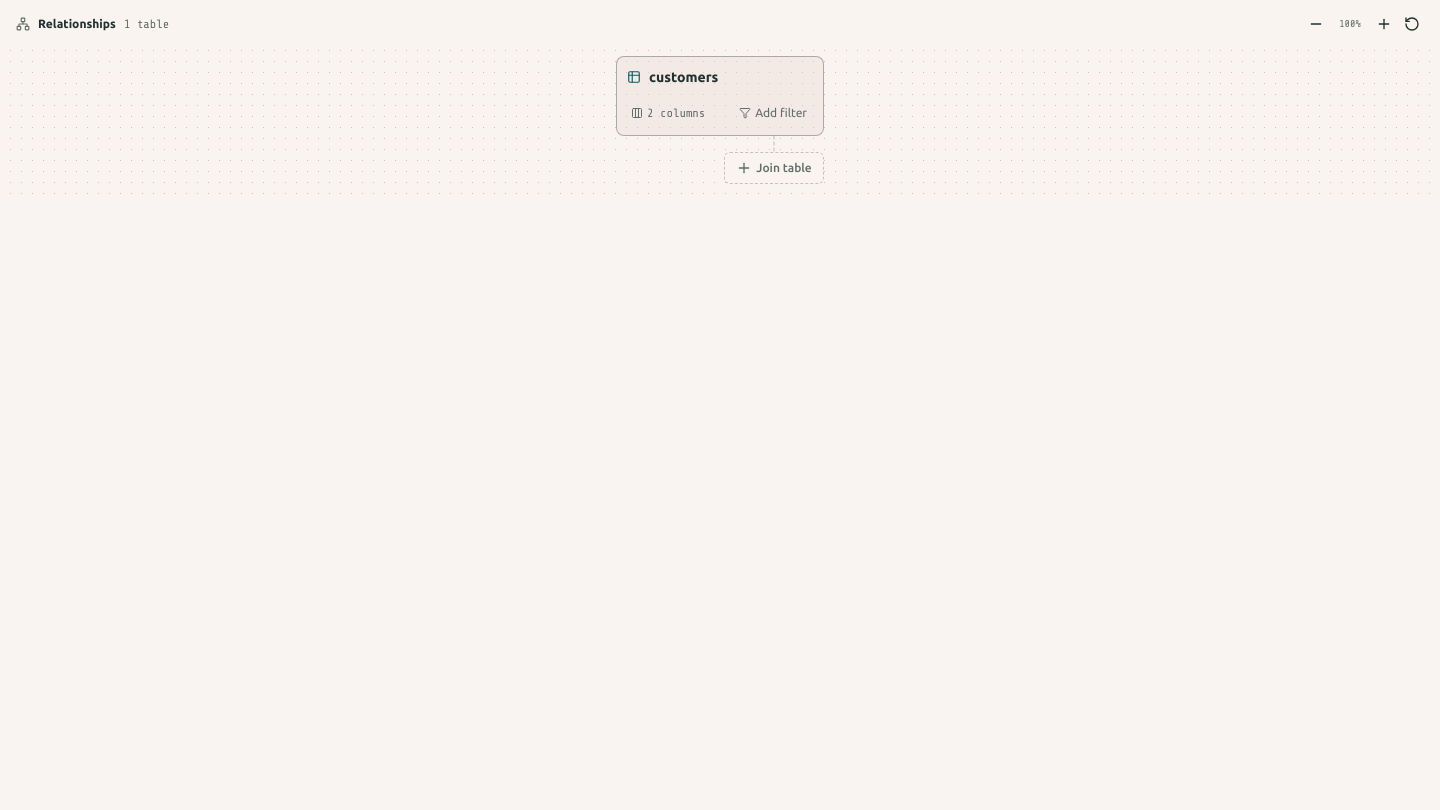
Test: TableNavigator › highlights the closest result after searching and joins it with Enter while keeping typing focus
Click the button with aria-label "Add related table to customers" at (774, 168), box [724,152,824,184]
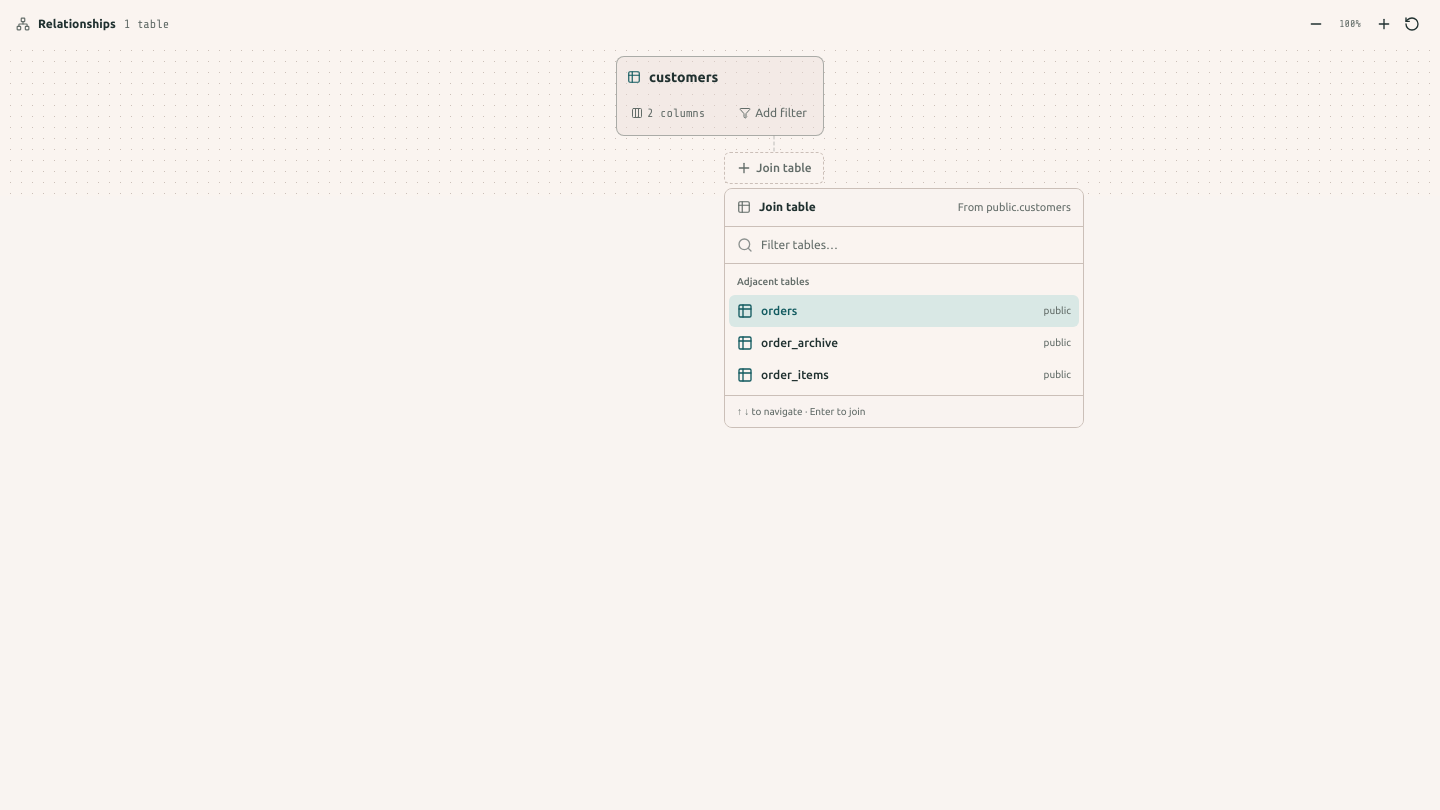
Type "order_" into the dropdown labelled "Filter tables" at (916, 244), box [761,226,1071,262]
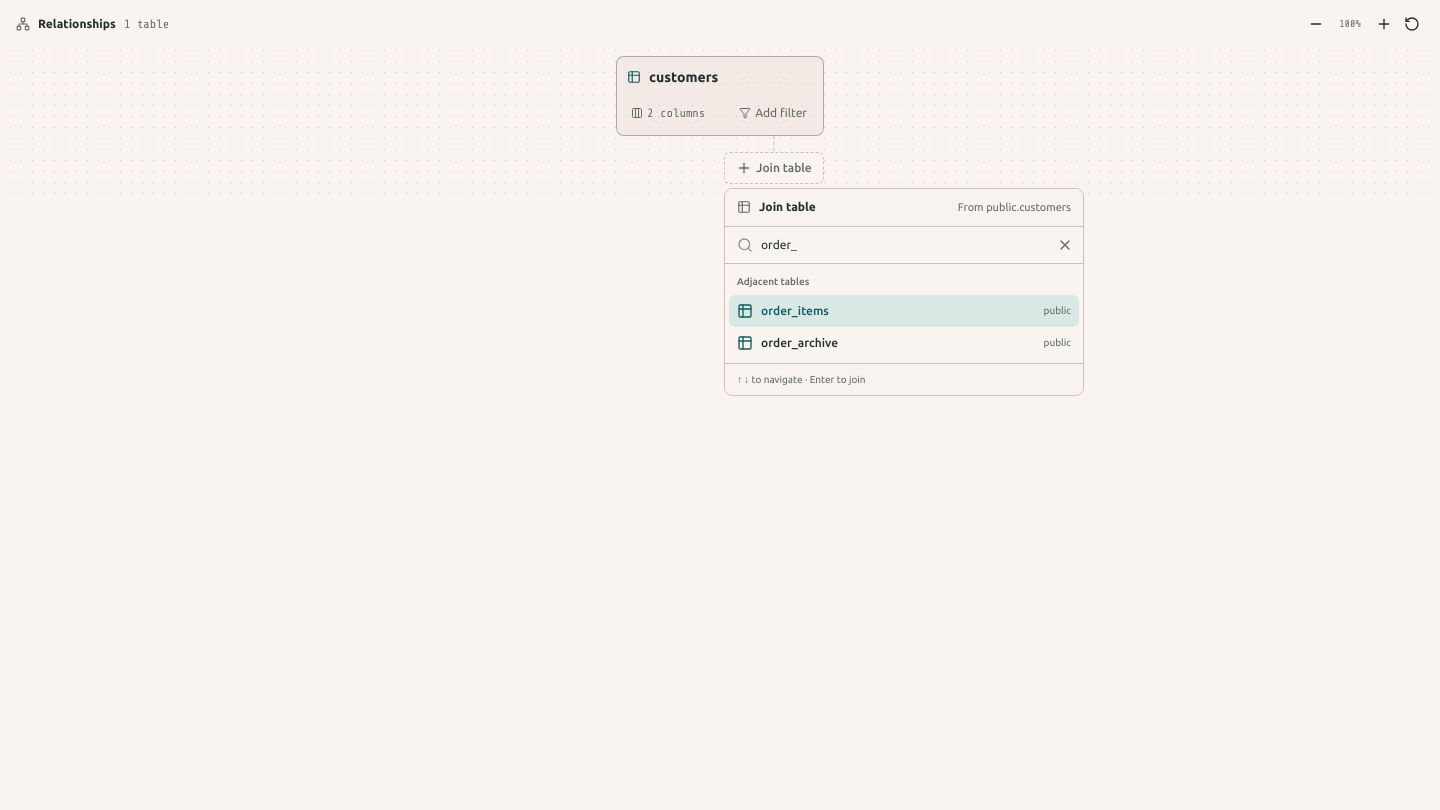
Now the option "order_items public" is selected, box [729,294,1079,326]
Press Enter
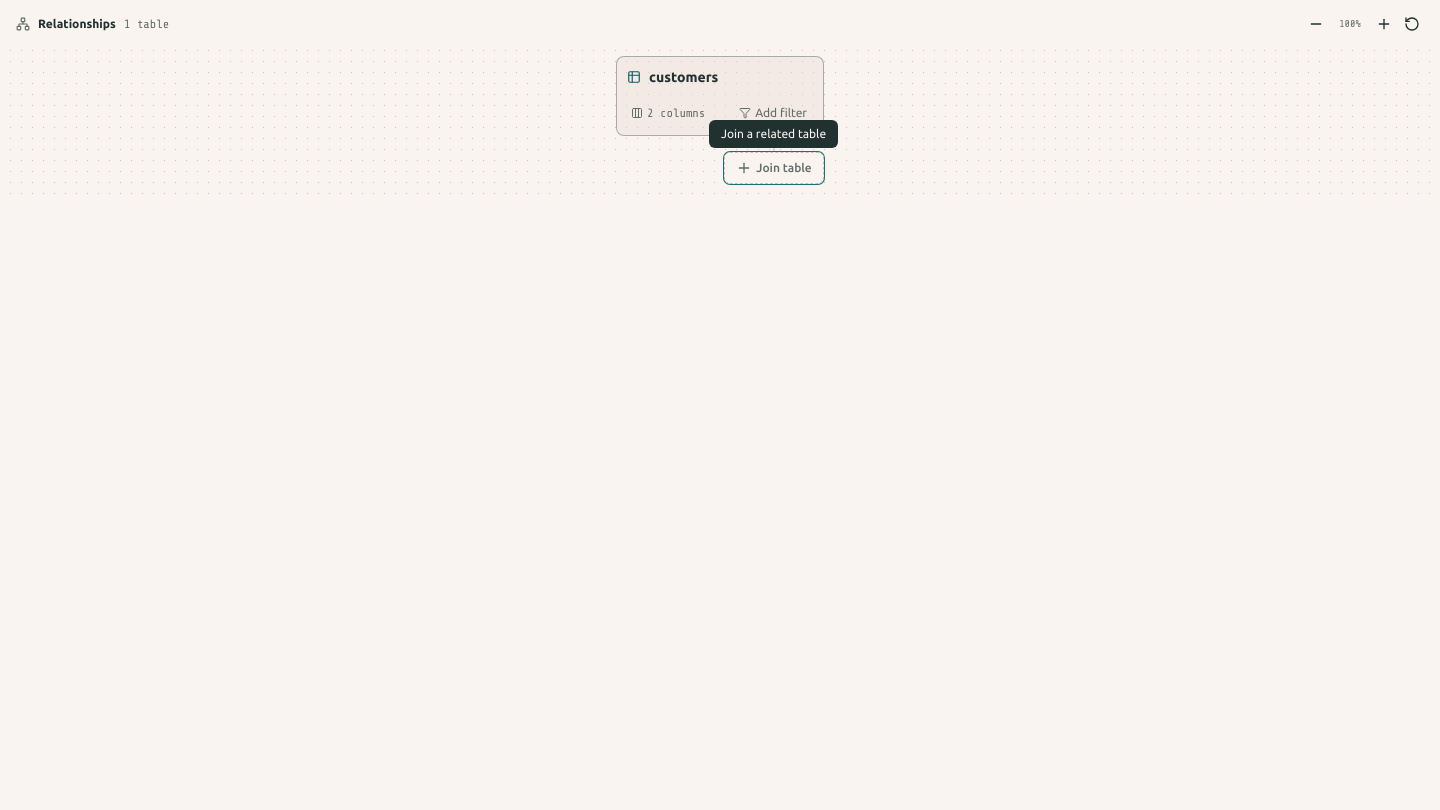
Now the dialog is gone
